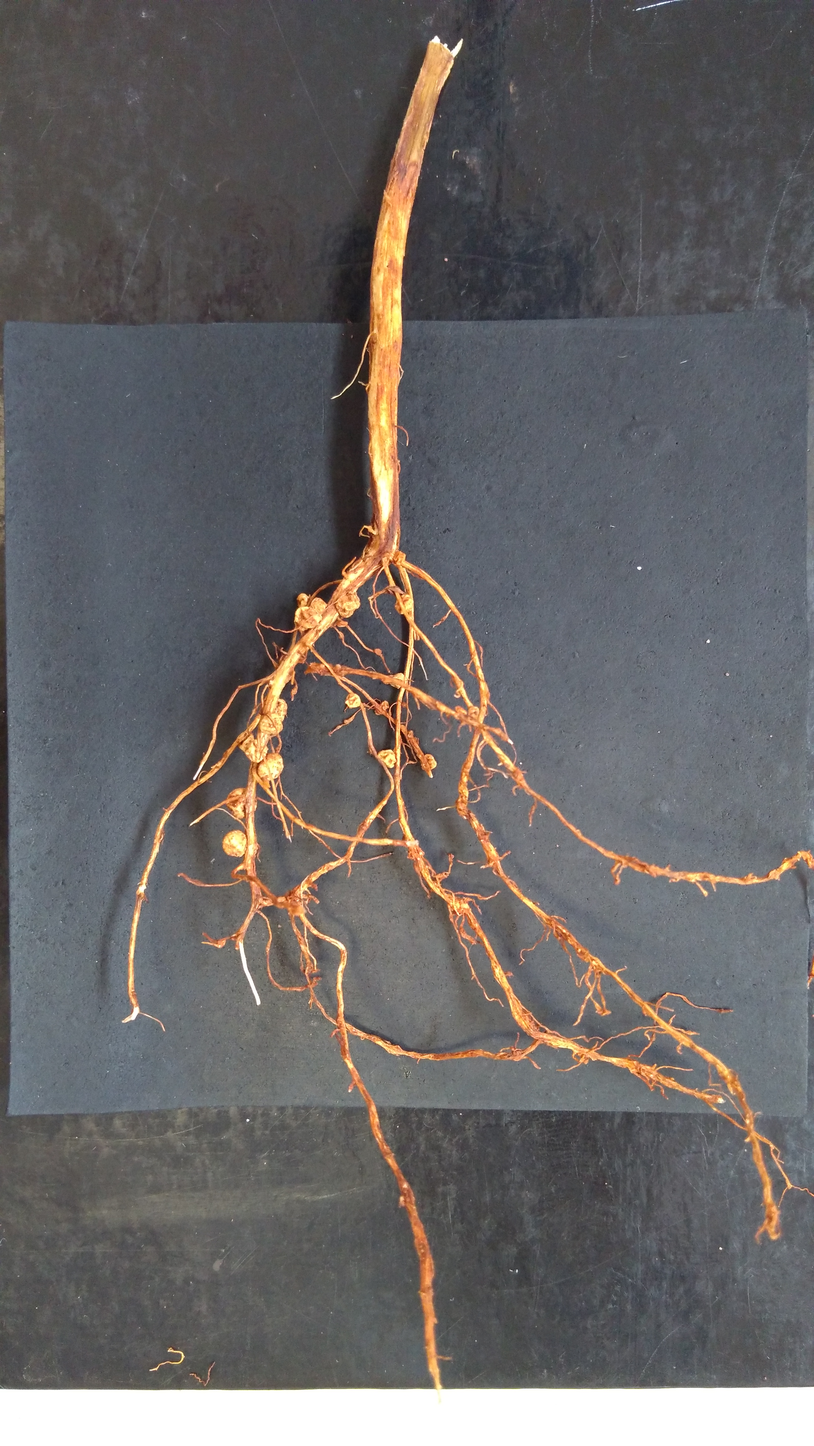nodule: (256, 751, 286, 783), (220, 828, 249, 860), (224, 785, 249, 820), (293, 605, 323, 630), (258, 711, 285, 736), (244, 739, 271, 764), (335, 593, 362, 611), (394, 593, 414, 616), (377, 748, 397, 770), (344, 691, 363, 713), (419, 752, 438, 772), (333, 603, 358, 618), (309, 597, 328, 614), (389, 671, 405, 690), (466, 704, 482, 721), (273, 698, 288, 716), (392, 549, 407, 567), (295, 591, 310, 608), (380, 699, 390, 711)
